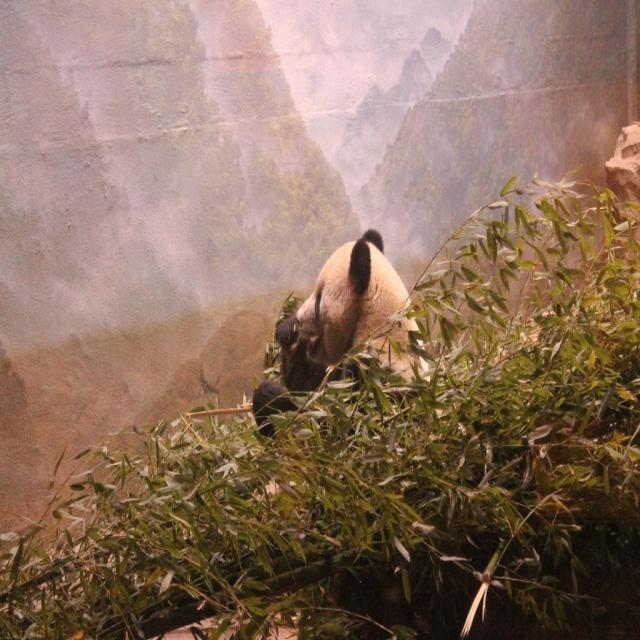panda: (250, 228, 430, 438)
